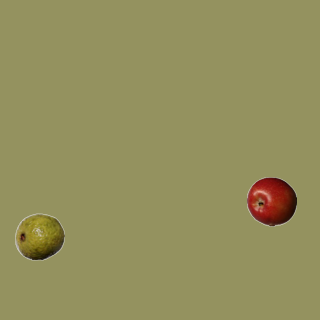Apple Braeburn: (246, 176, 296, 226)
Guava: (14, 211, 64, 261)
